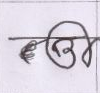i_matra: (74, 20, 95, 67)
